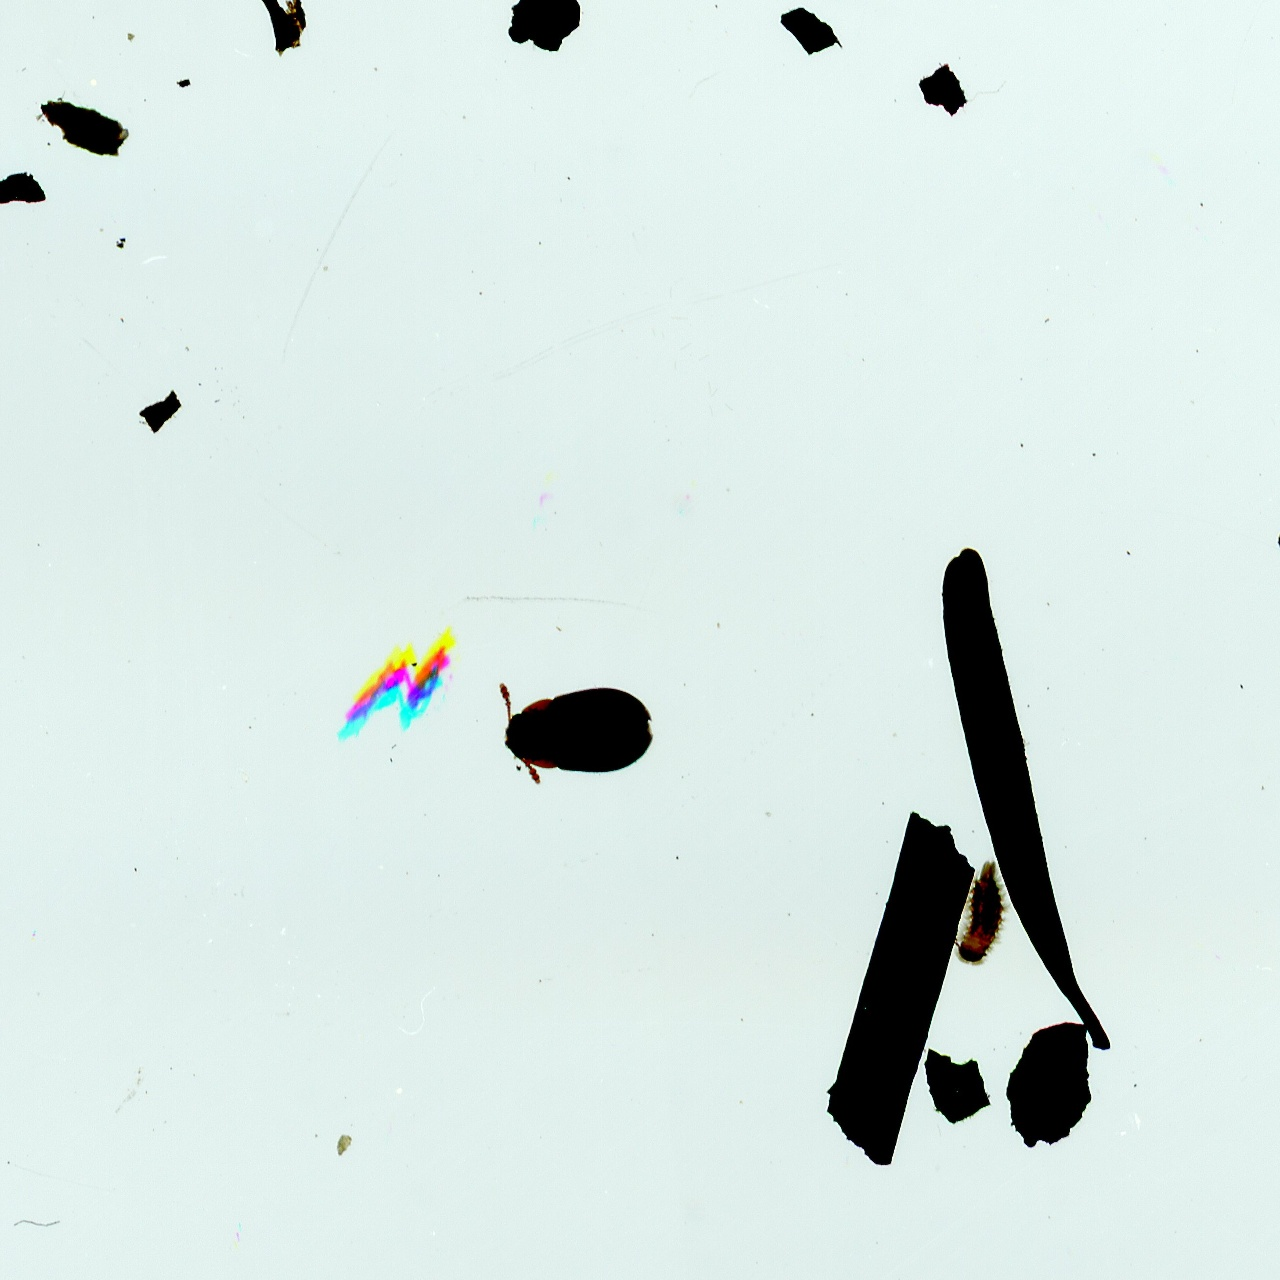arthropod: (491, 670, 674, 799), (946, 849, 1028, 980)
